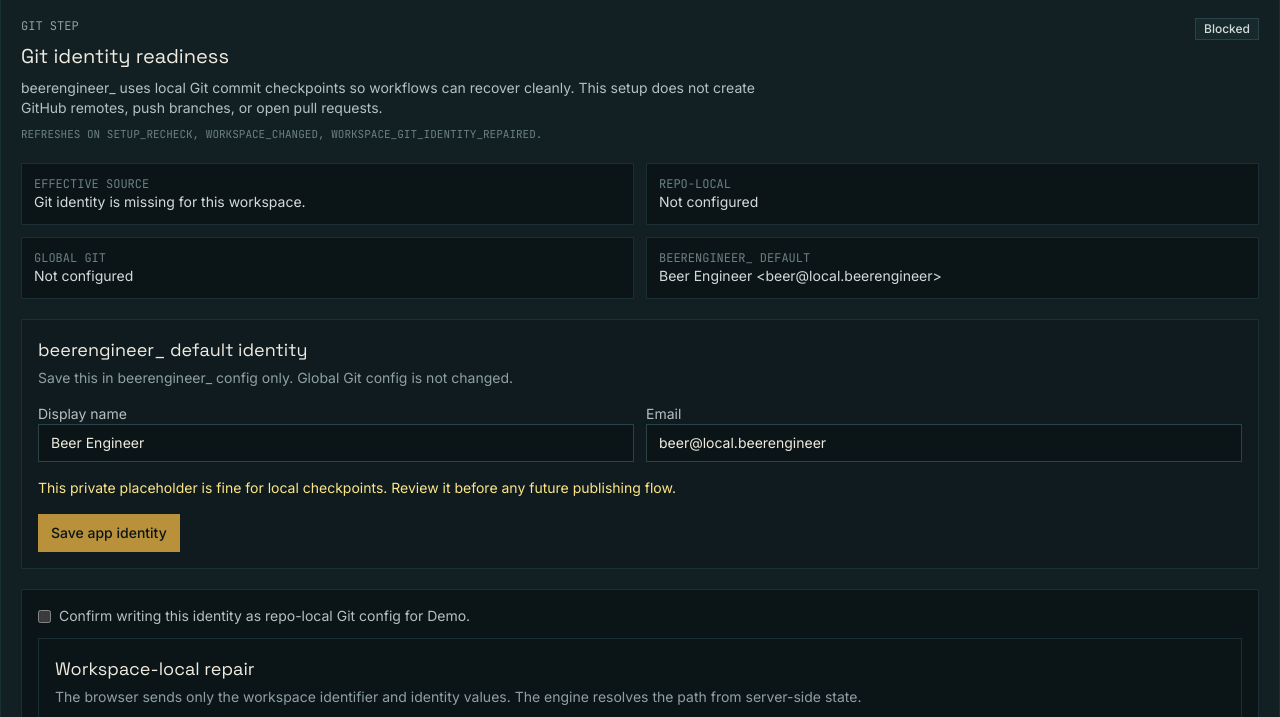
Setup workspace Git repair › requires confirmation and sends only workspace identity fields
Click the checkbox at (44, 616), box [38,610,51,622]
(page scrolled)
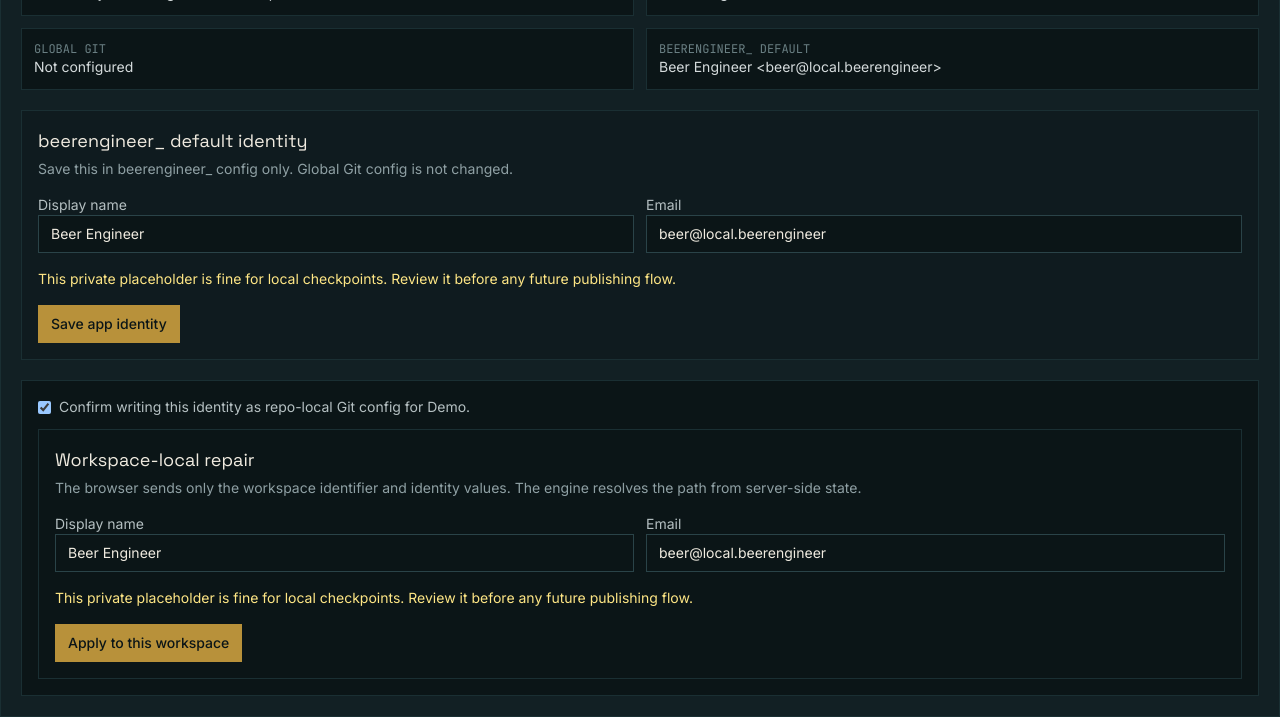
Replace the text in the field labelled "Display name" below "Workspace-local repair" with "Repair Person" at (344, 552), box [55,534,634,572]
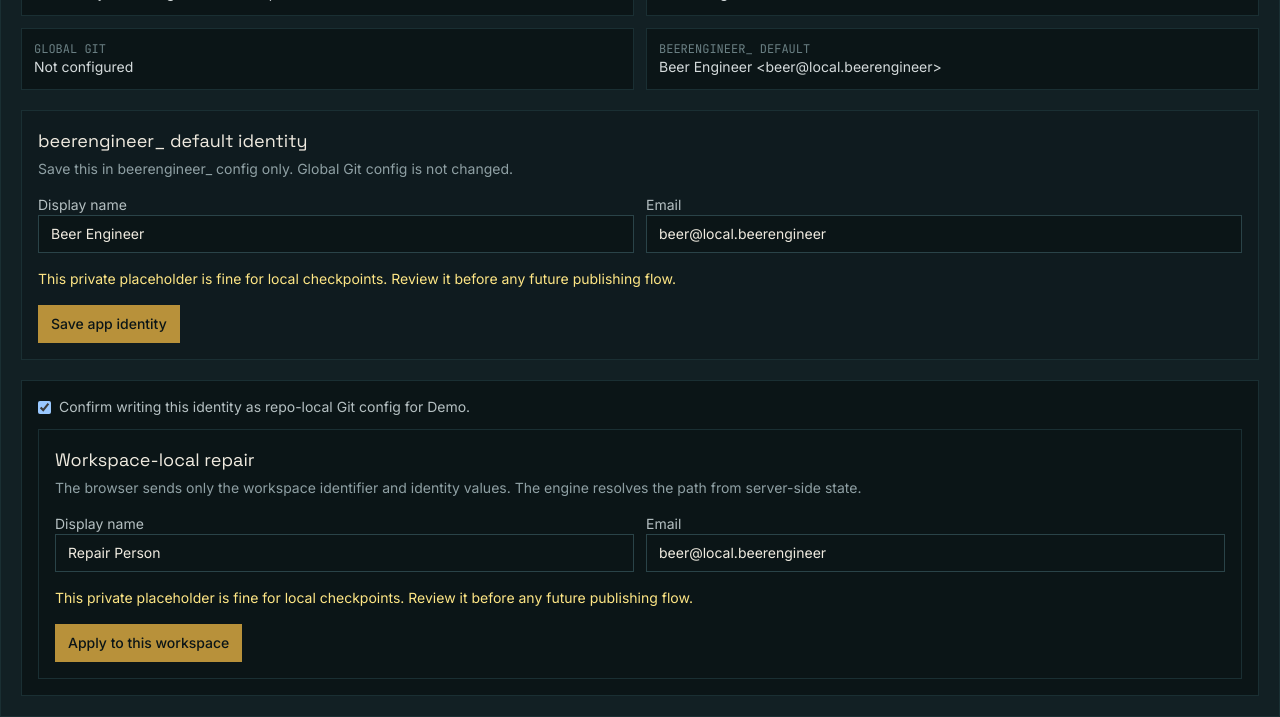
Replace the text in the field labelled "Email" below "Demo" with "repair@example.test" at (936, 552), box [646,534,1225,572]
(page scrolled)
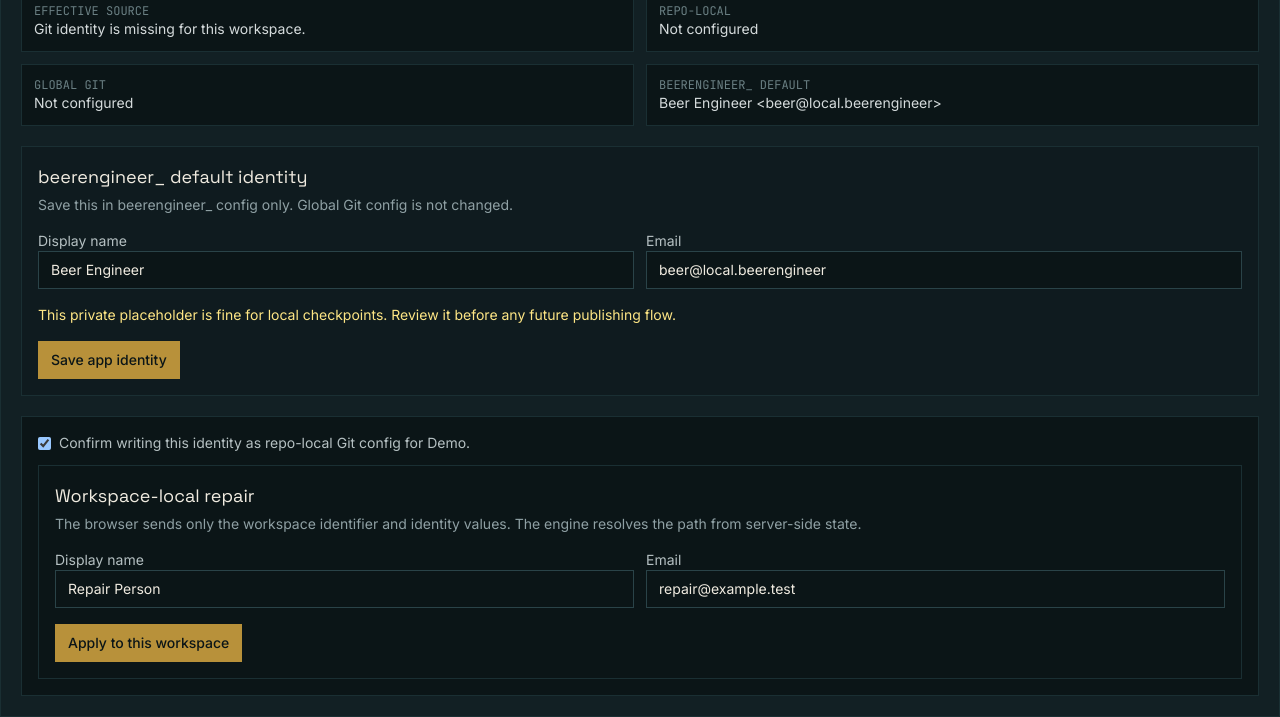
Click the button "Apply to this workspace" at (149, 642), box [55,624,242,662]
(page scrolled)
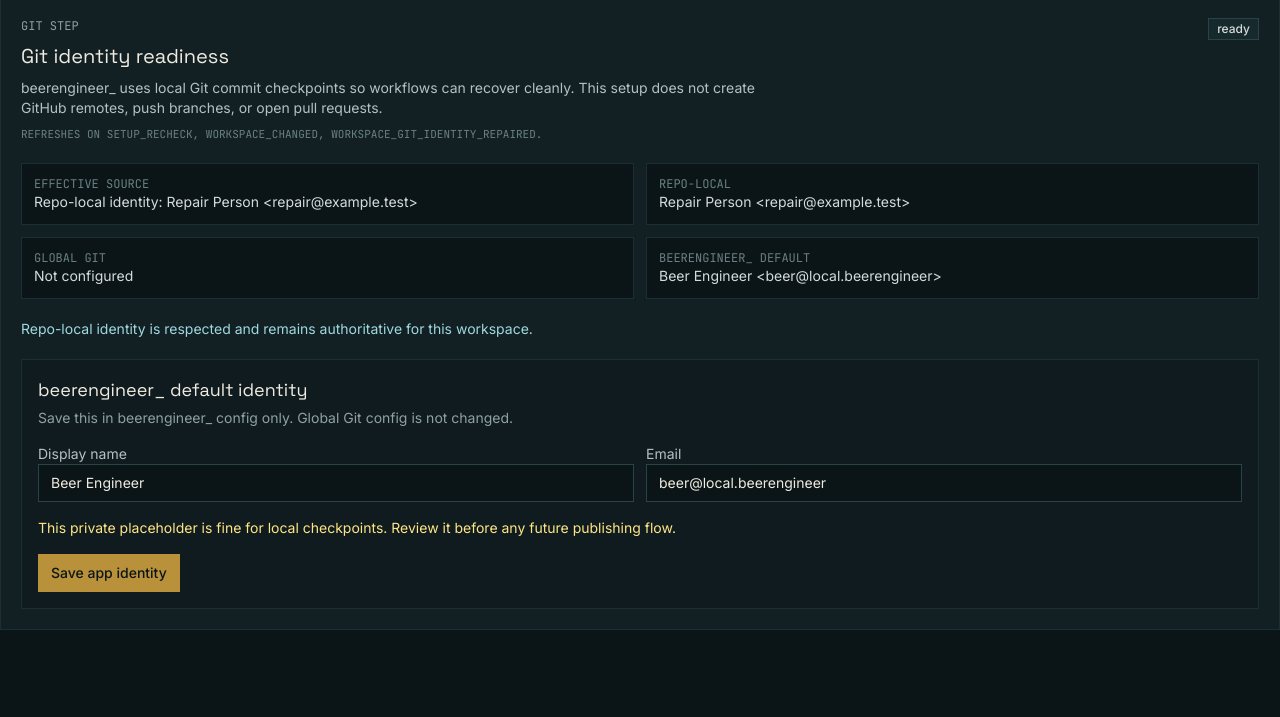
Check: the text "Repo-local identity: Repair Person <repair@example.test>" is shown, box [34,192,418,210]
